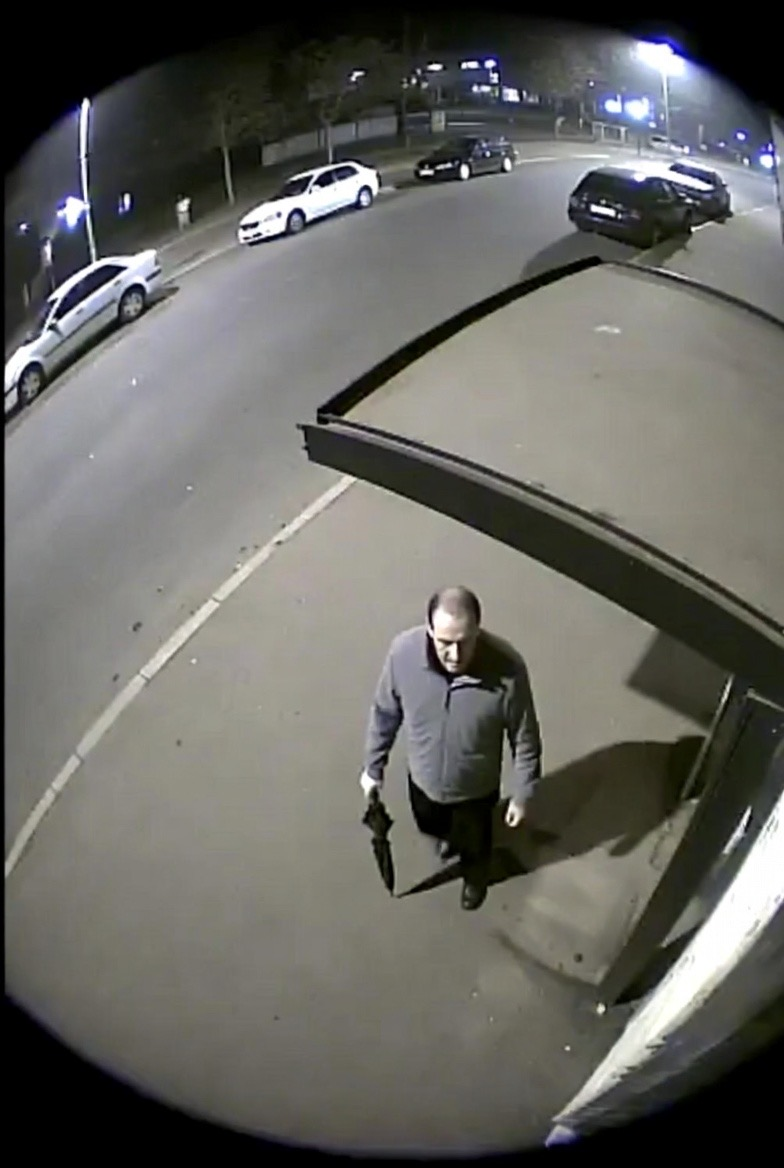person: (359, 585, 544, 911), (175, 193, 193, 232)
umbrella: (362, 791, 396, 894)
